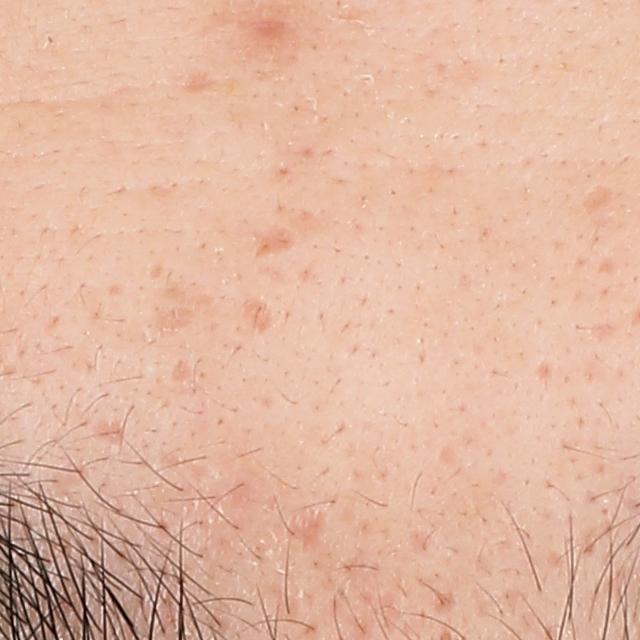atrophic_scar: (248, 221, 304, 266), (149, 301, 202, 345), (284, 505, 331, 551), (239, 292, 277, 337), (93, 419, 127, 448), (583, 183, 614, 214), (411, 527, 441, 556), (588, 322, 622, 344), (172, 358, 196, 384), (537, 356, 559, 383), (436, 444, 461, 465), (597, 257, 619, 274)
